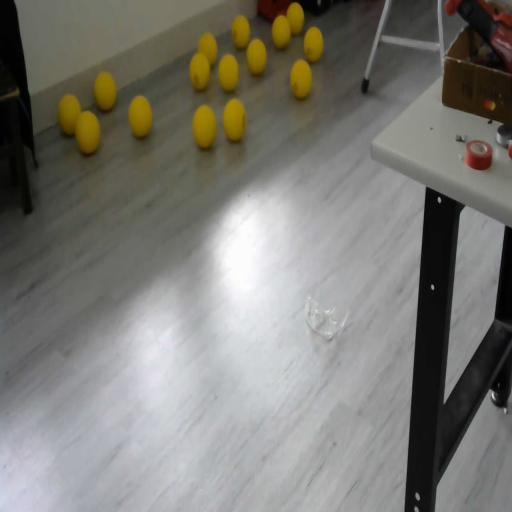FUEL: (127, 93, 153, 139), (74, 110, 101, 154), (222, 96, 247, 142), (56, 92, 82, 136), (192, 104, 217, 149), (92, 70, 118, 112), (290, 59, 312, 100), (218, 52, 240, 92), (246, 37, 268, 75), (197, 31, 218, 68), (303, 25, 324, 62), (271, 14, 291, 49), (232, 15, 250, 49), (286, 1, 304, 35)
